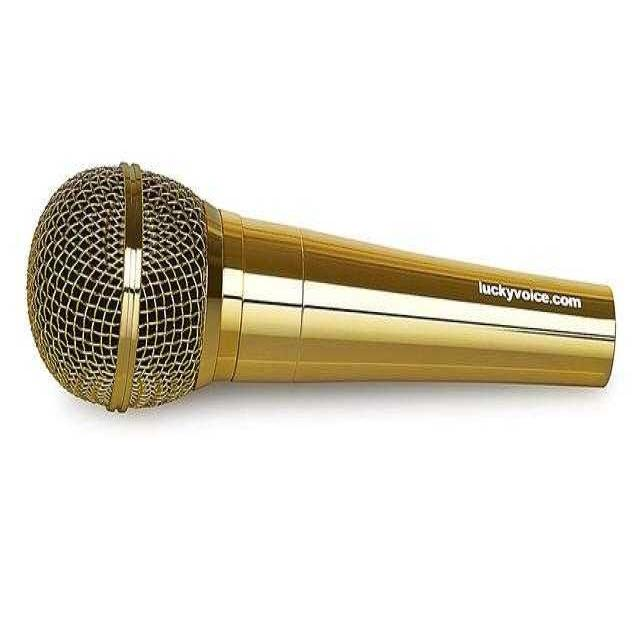microphone: (29, 162, 608, 410)
